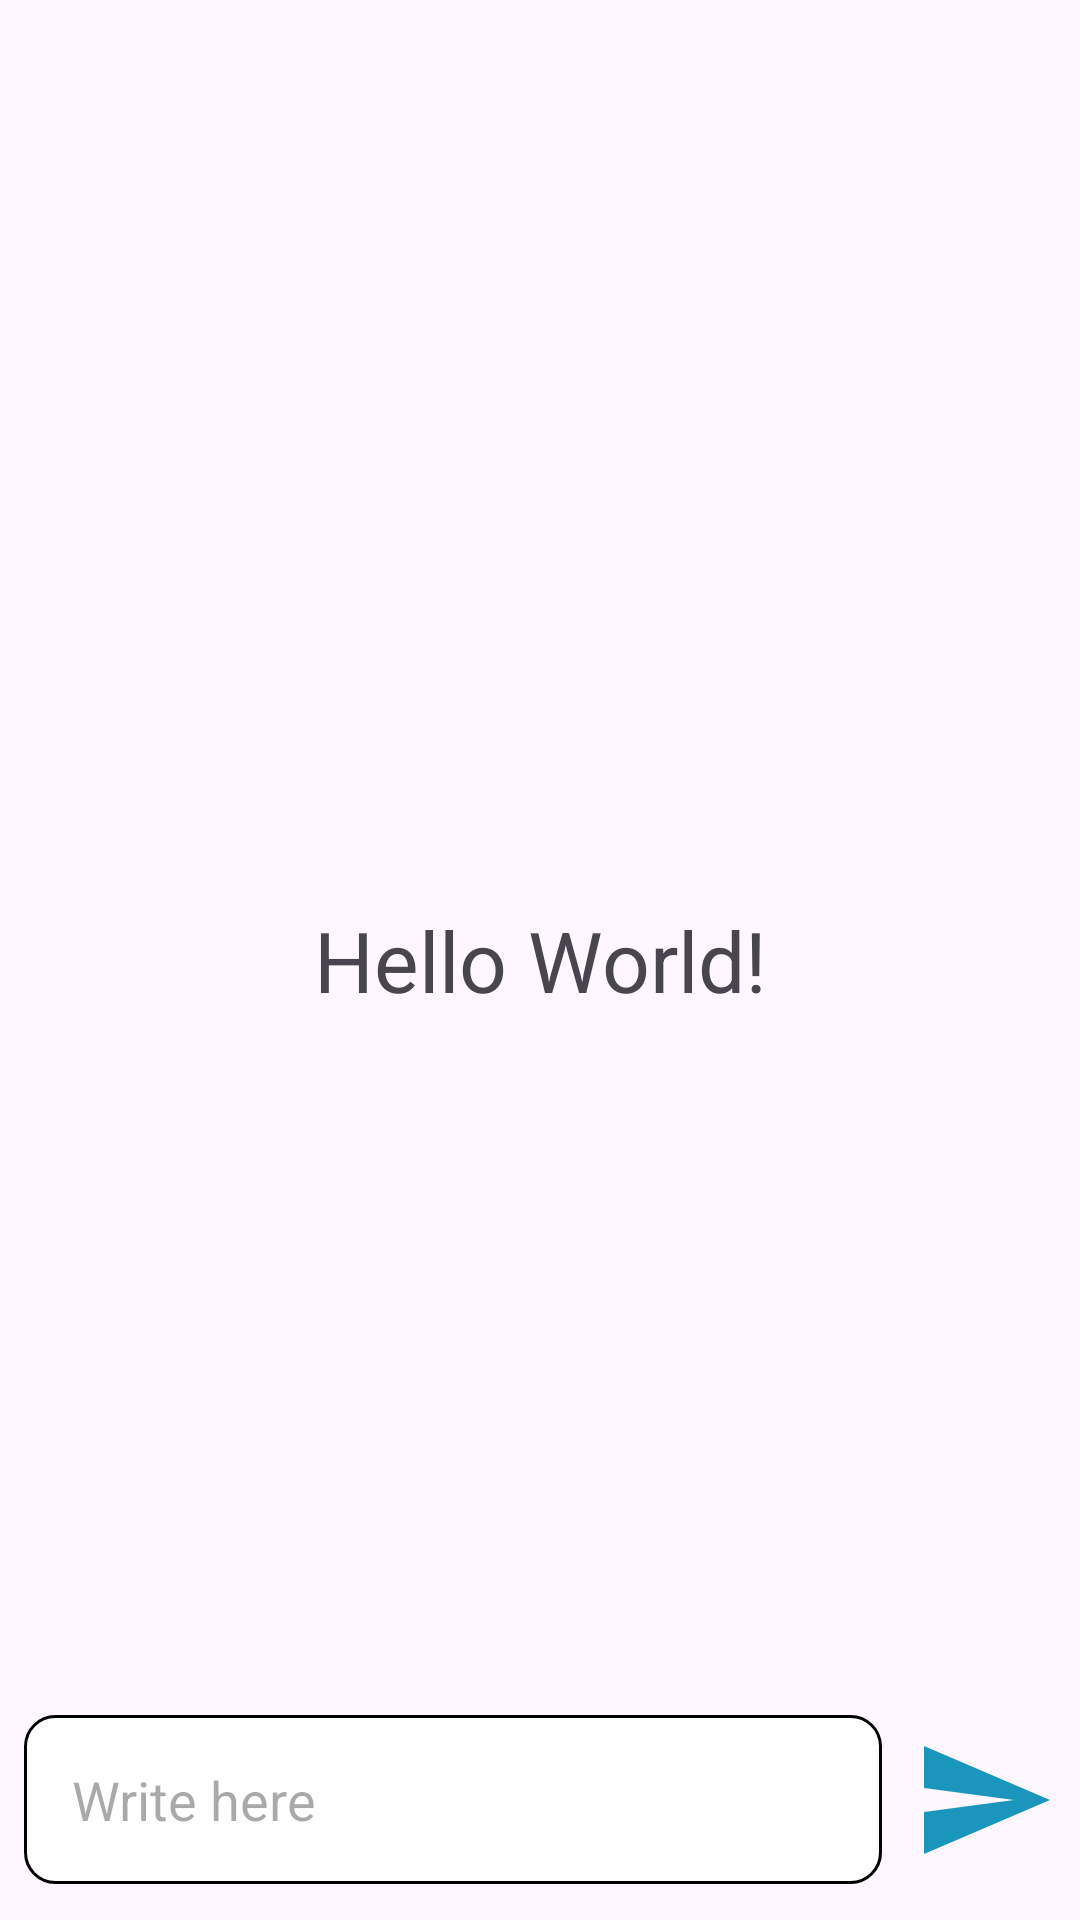

Screen size 1080*1920. Icon name, then its box in pixels as (x1, y1, x2, y2):
send: (924, 1746, 1050, 1854)
